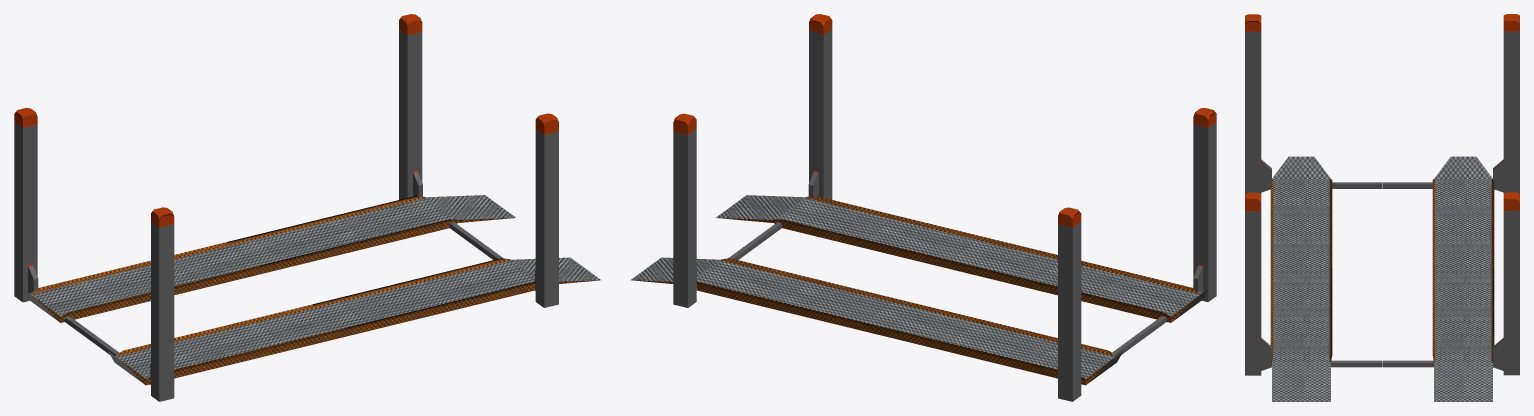
File: Car Garage Mechanic.FBX
The picture shows the model from 3 angles, left to right: view 1: azimuth 30°, elevation 25°; view 2: azimuth 150°, elevation 25°; view 3: azimuth 270°, elevation 25°; orthographic projection. The views are drawn at different scales.
Parts seen in each view (by area): view 1: Box006, Box003; view 2: Box006, Box003; view 3: Box006, Box003.
Boxes of the visible parts, box(x1,y1,x2,y2) form: Box006: box(23, 195, 600, 385); Box003: box(14, 14, 558, 401); Box006: box(630, 195, 1208, 385); Box003: box(673, 14, 1216, 401); Box006: box(1270, 156, 1494, 401); Box003: box(1245, 14, 1519, 375).
Size of the model in its own units: 160 by 60 by 84.81.
1 material, 1 textured.
